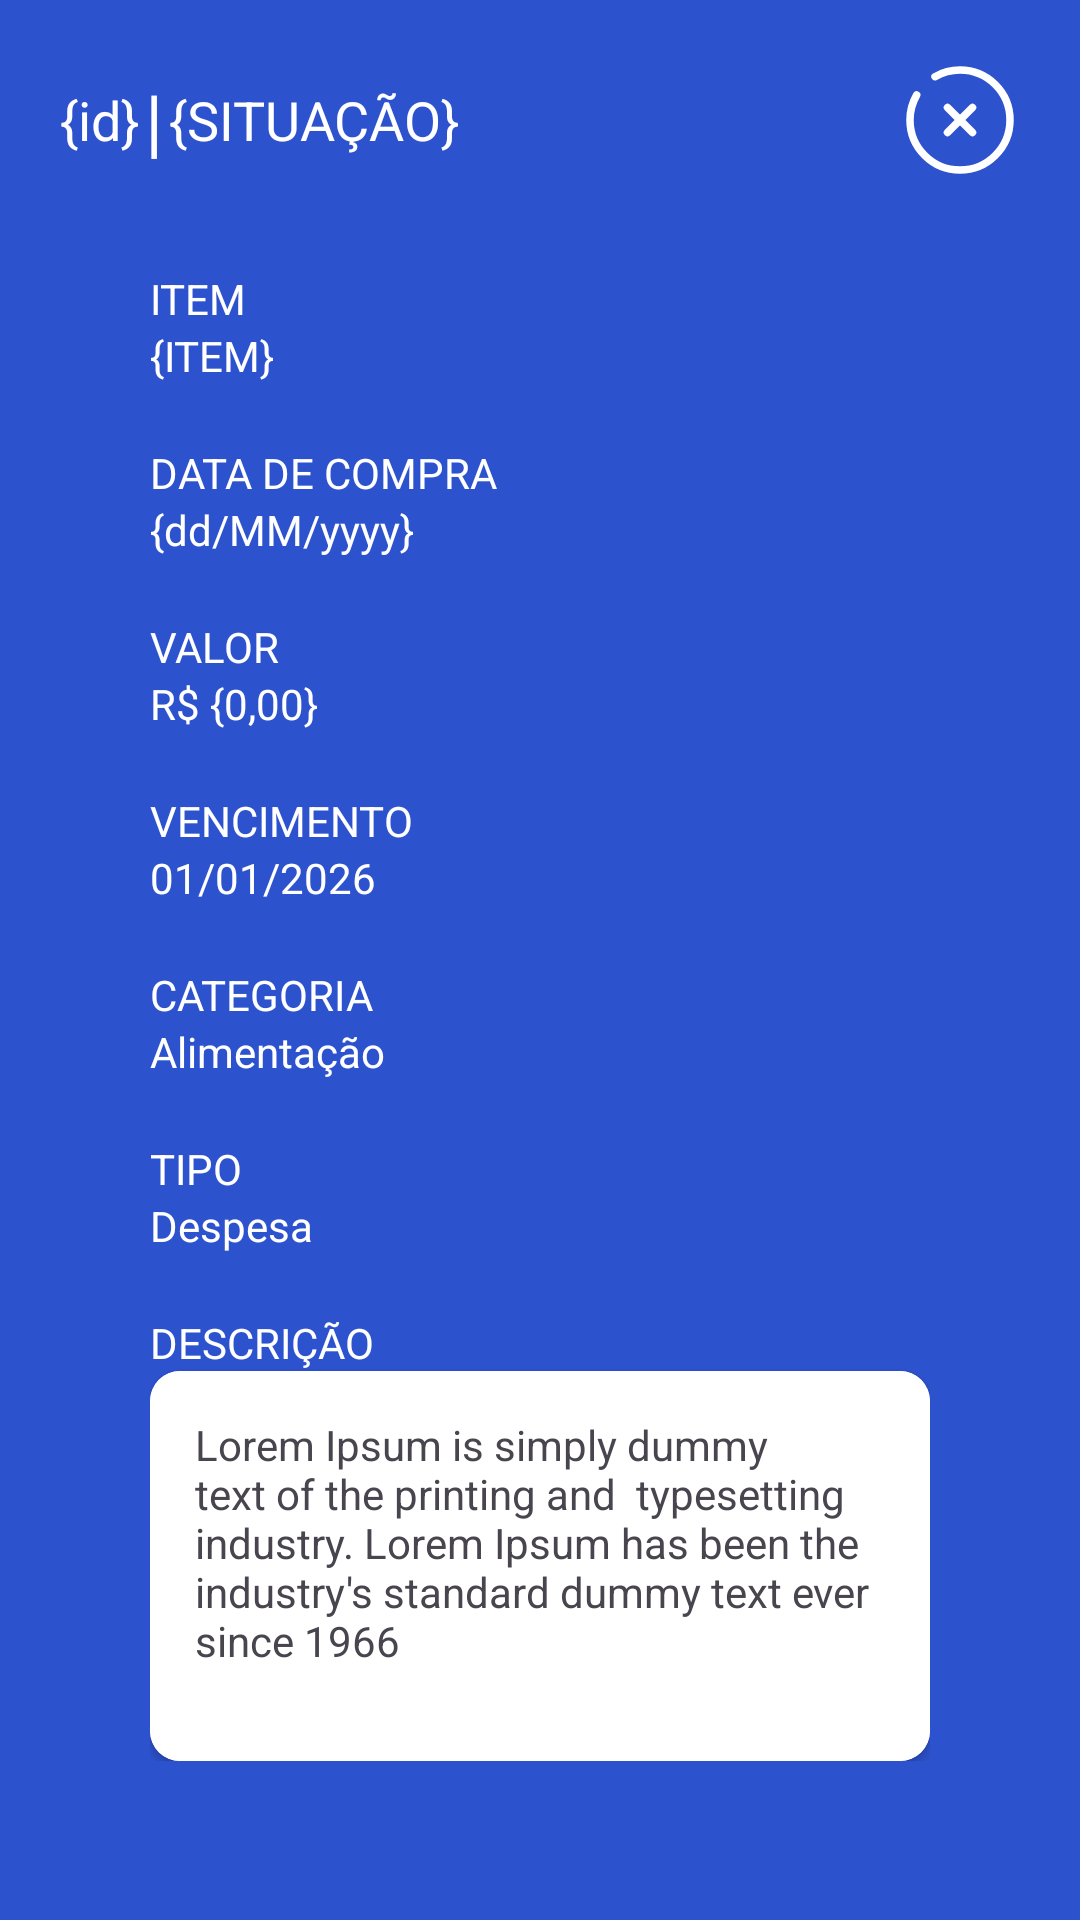

Icons on this 1080 x 1920 Android screen, each with its box as (x1, y1, x2, y2):
fechar: (906, 66, 1014, 174)
